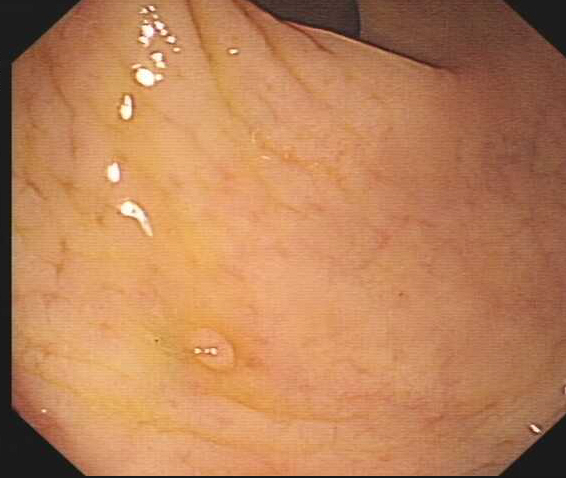others: (183, 324, 237, 377)
